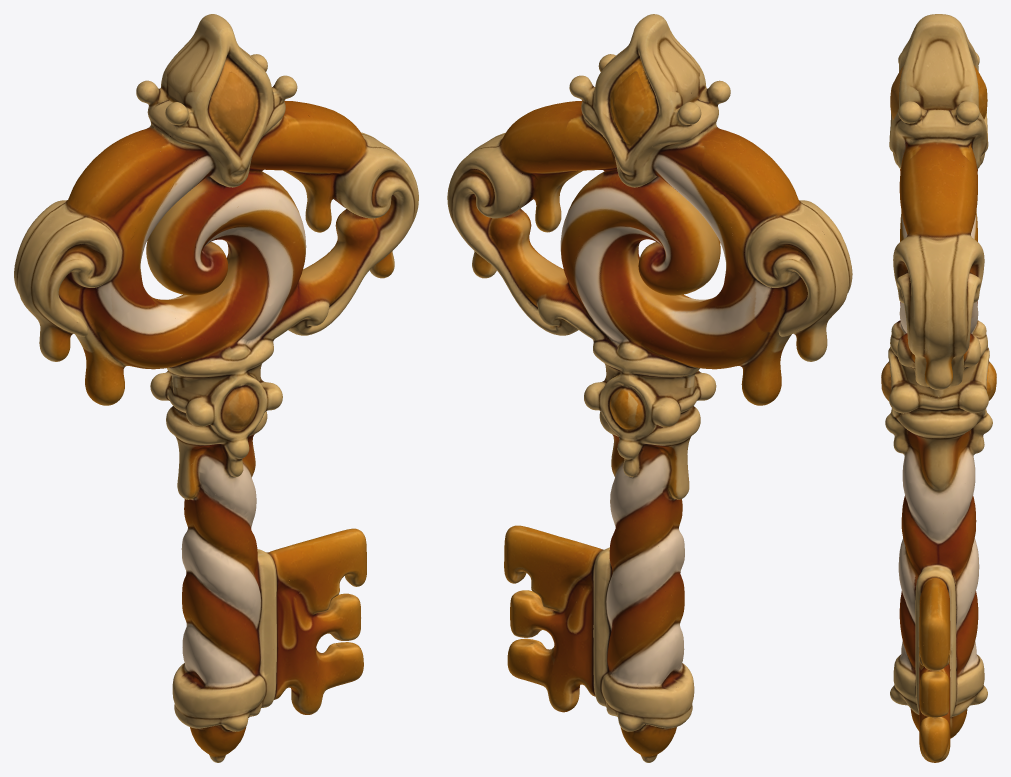
Rendered from Meshy_AI_Caramel_Key.glb.
3 views of the same model, side by side, from view 1: azimuth 30°, elevation 25°; view 2: azimuth 150°, elevation 25°; view 3: azimuth 270°, elevation 25° (orthographic).
Visible parts, largest first — view 1: Mesh_0; view 2: Mesh_0; view 3: Mesh_0.
Boxes of the visible parts, left/top/right/bottom form: Mesh_0: left=14, top=14, right=418, bottom=762; Mesh_0: left=447, top=14, right=852, bottom=762; Mesh_0: left=881, top=14, right=996, bottom=762.
Bounding box in the file's own units: 1.04 × 1.9 × 0.2721.
Materials: 1 (1 with a texture image).
